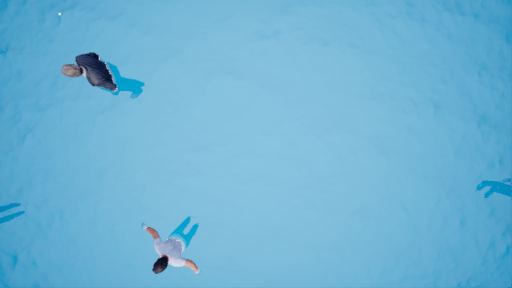person: (129, 210, 215, 277), (60, 49, 147, 102), (465, 166, 511, 212)
